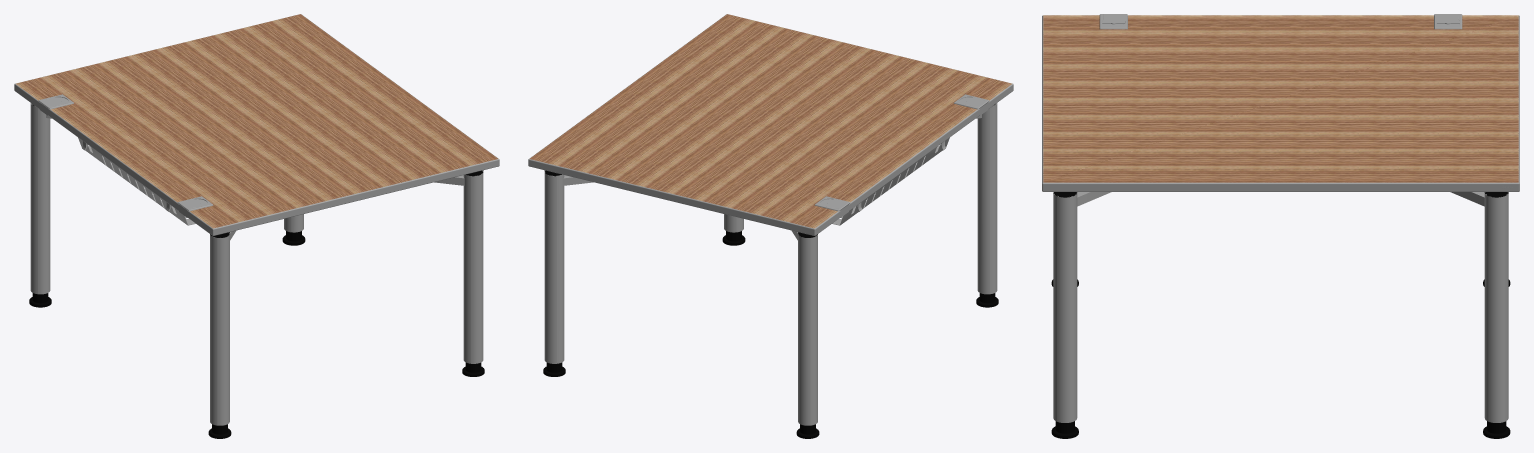
Rendered from Desk_80x80_FINAL.fbx.
The picture shows the model from 3 angles, left to right: view 1: azimuth 30°, elevation 25°; view 2: azimuth 150°, elevation 25°; view 3: azimuth 270°, elevation 25°; orthographic projection. The views are drawn at different scales.
Parts seen in each view (by area): view 1: BLAT_UP_DOWN, metal_mesh, BLAT_BOKI, Plastik_mesh; view 2: BLAT_UP_DOWN, metal_mesh, BLAT_BOKI, Plastik_mesh; view 3: BLAT_UP_DOWN, metal_mesh, BLAT_BOKI, Plastik_mesh.
Boxes of the visible parts, <box> form: BLAT_UP_DOWN: <box>16,14,497,228</box>; metal_mesh: <box>30,94,483,425</box>; BLAT_BOKI: <box>14,14,499,235</box>; Plastik_mesh: <box>29,103,484,438</box>; BLAT_UP_DOWN: <box>530,14,1011,228</box>; metal_mesh: <box>544,94,997,425</box>; BLAT_BOKI: <box>528,14,1013,235</box>; Plastik_mesh: <box>543,104,998,438</box>; BLAT_UP_DOWN: <box>1043,15,1518,182</box>; metal_mesh: <box>1053,14,1512,422</box>; BLAT_BOKI: <box>1042,15,1519,191</box>; Plastik_mesh: <box>1051,192,1510,438</box>.
Bounding box in the file's own units: 100 × 72.35 × 120.
